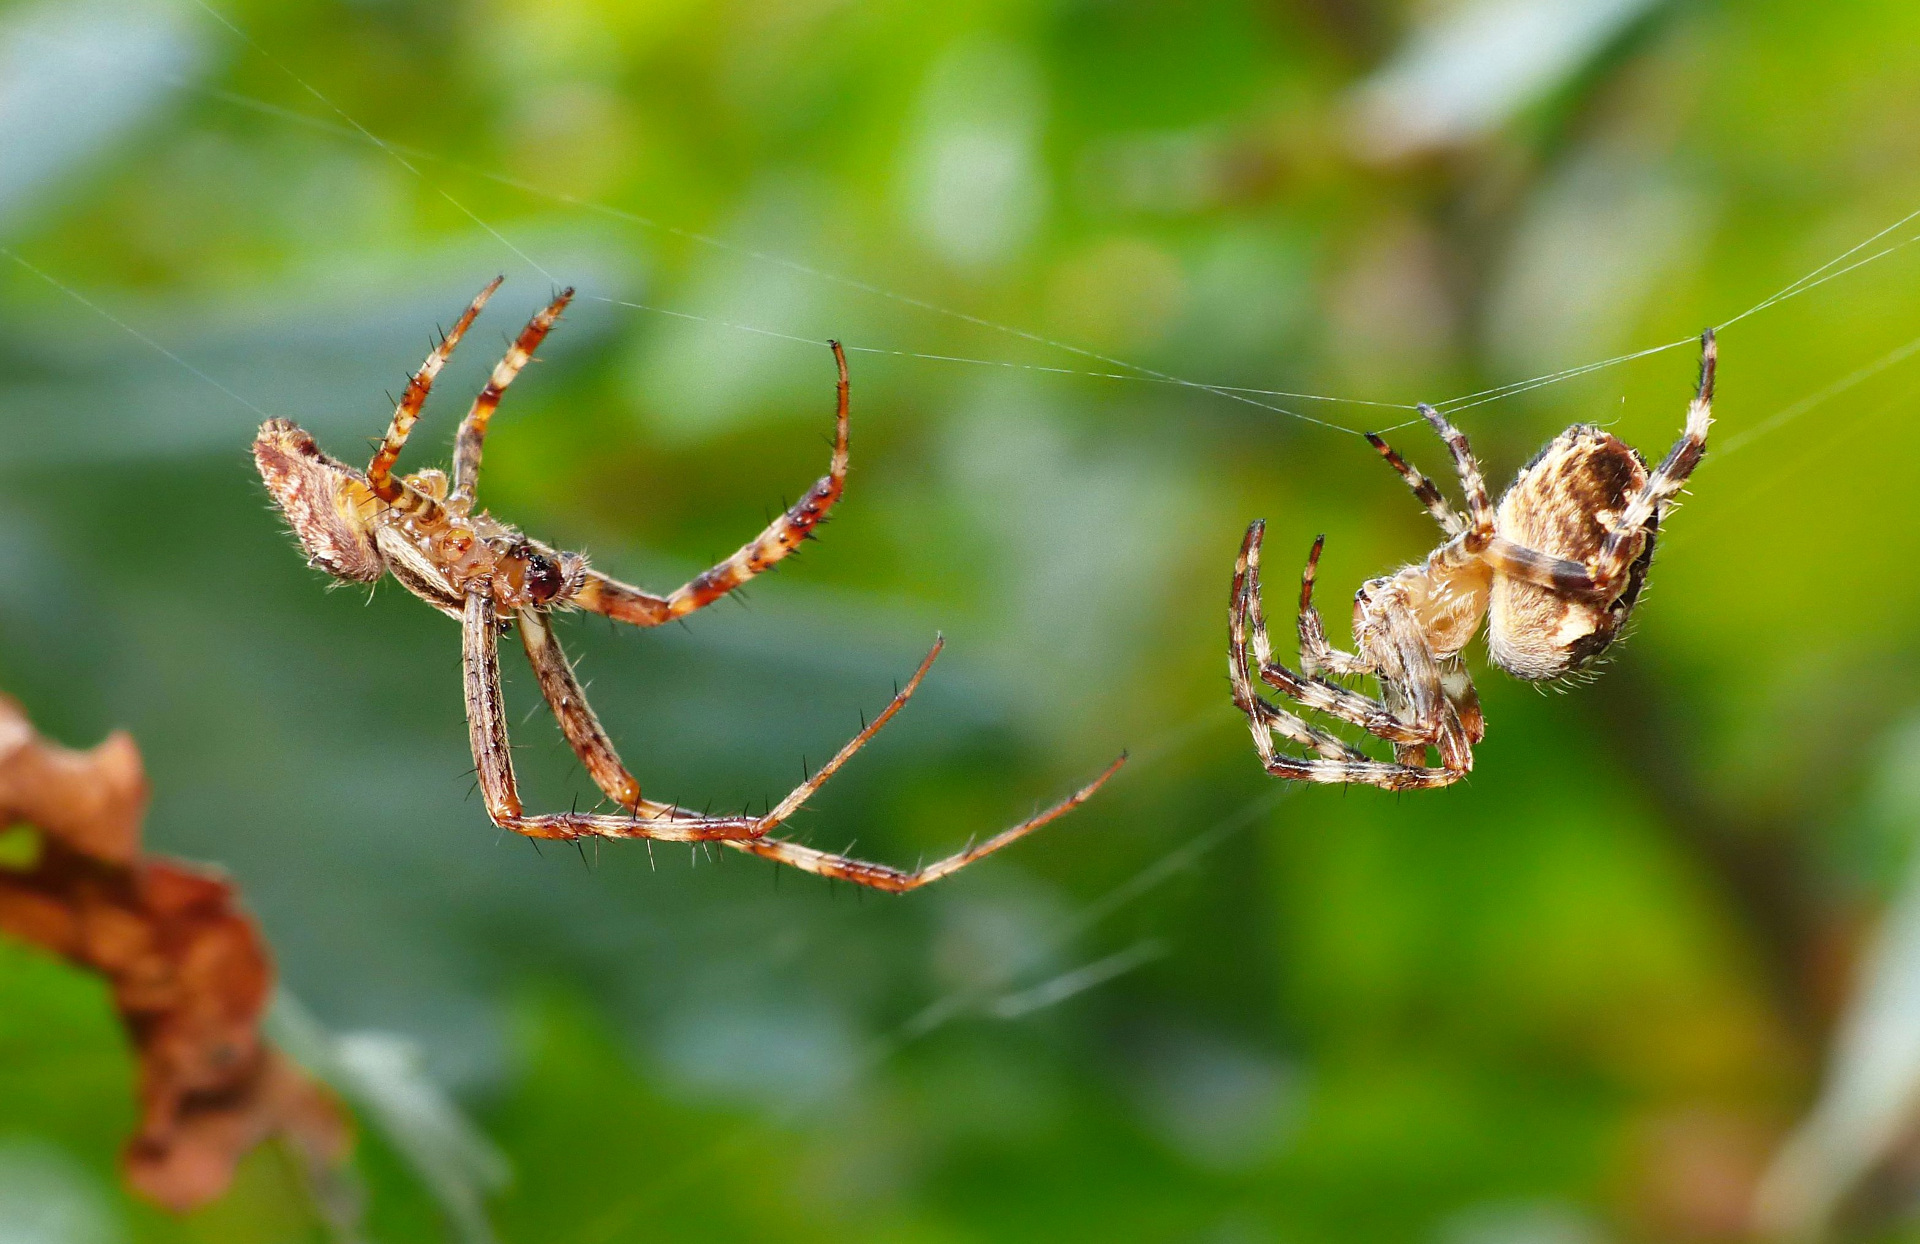spider: (169, 203, 1138, 998), (1173, 284, 1779, 854)
